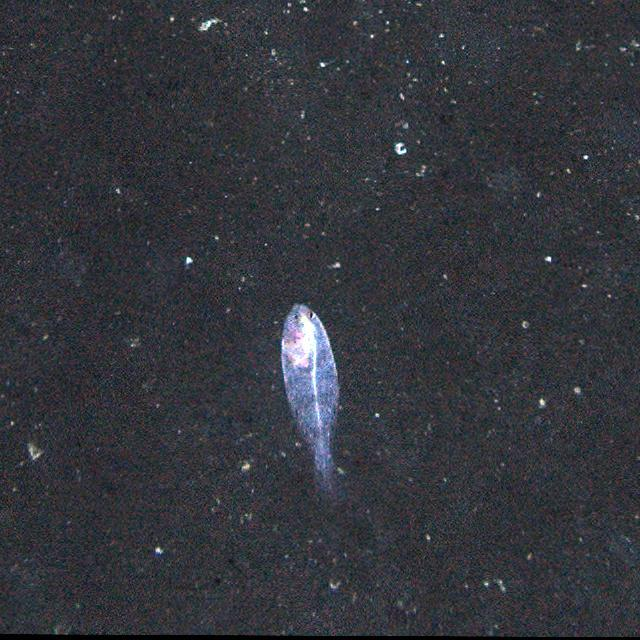flatfish: (280, 299, 348, 497)
